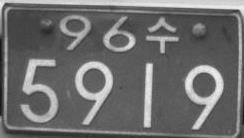1: (132, 63, 166, 128)
5: (19, 58, 59, 123)
6: (102, 15, 136, 52)
9: (184, 63, 224, 130), (73, 60, 114, 125), (59, 14, 92, 50)
수: (146, 15, 180, 54)
